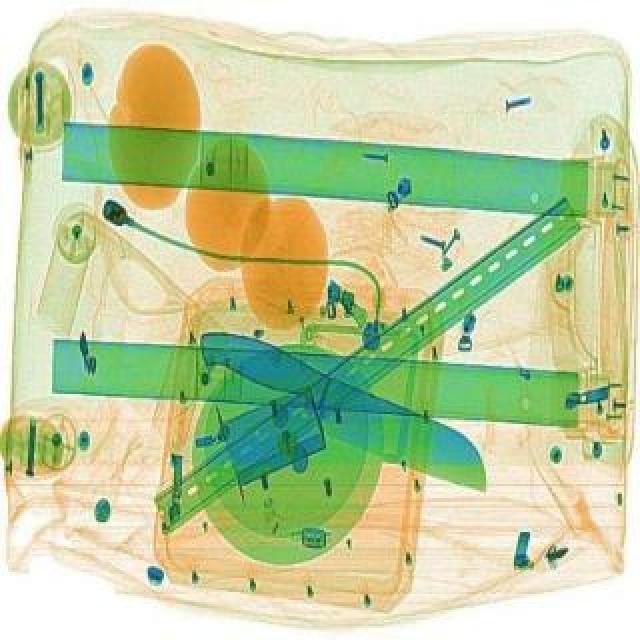knife: (182, 310, 506, 502)
